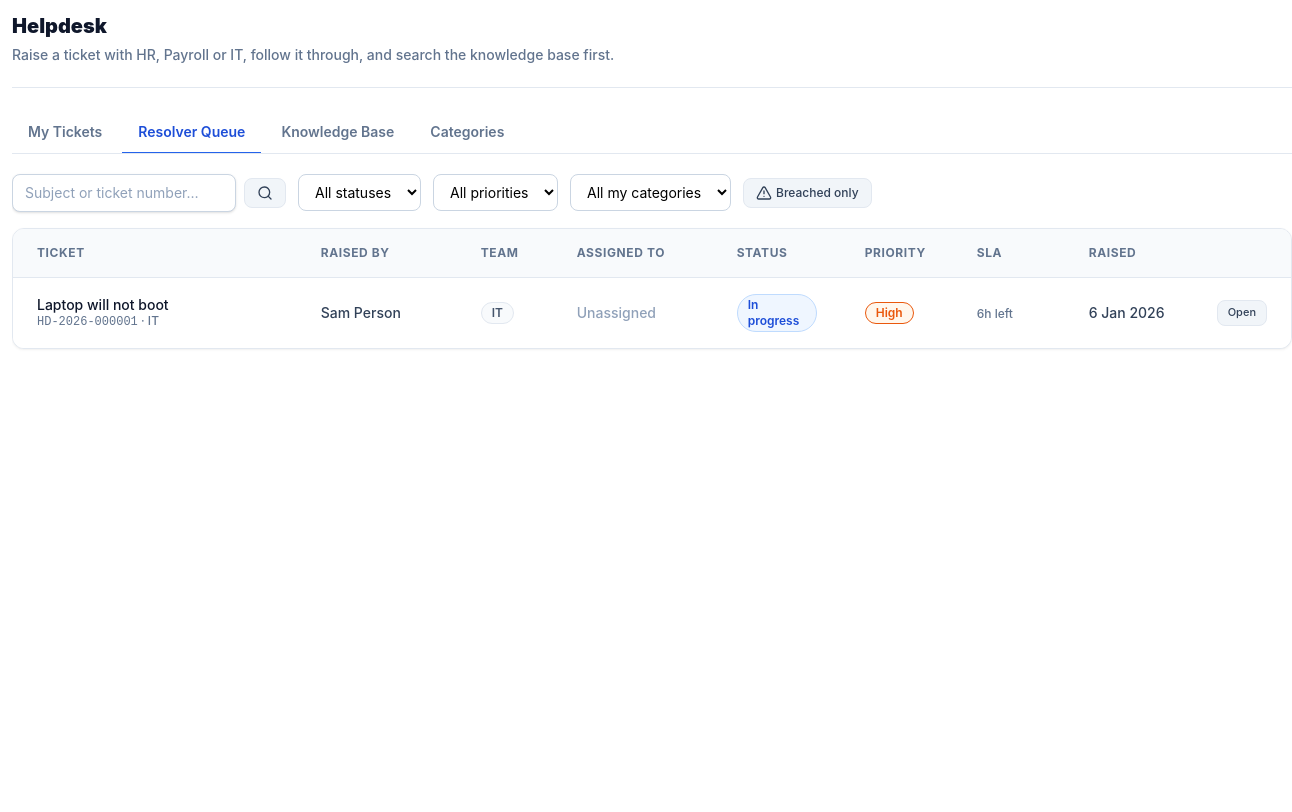
Test: the ticket detail › offers only the moves the machine allows
The width and height of the screenshot is (1292, 812).
Click the button "Open" at (1242, 313), box [1217,300,1267,326]
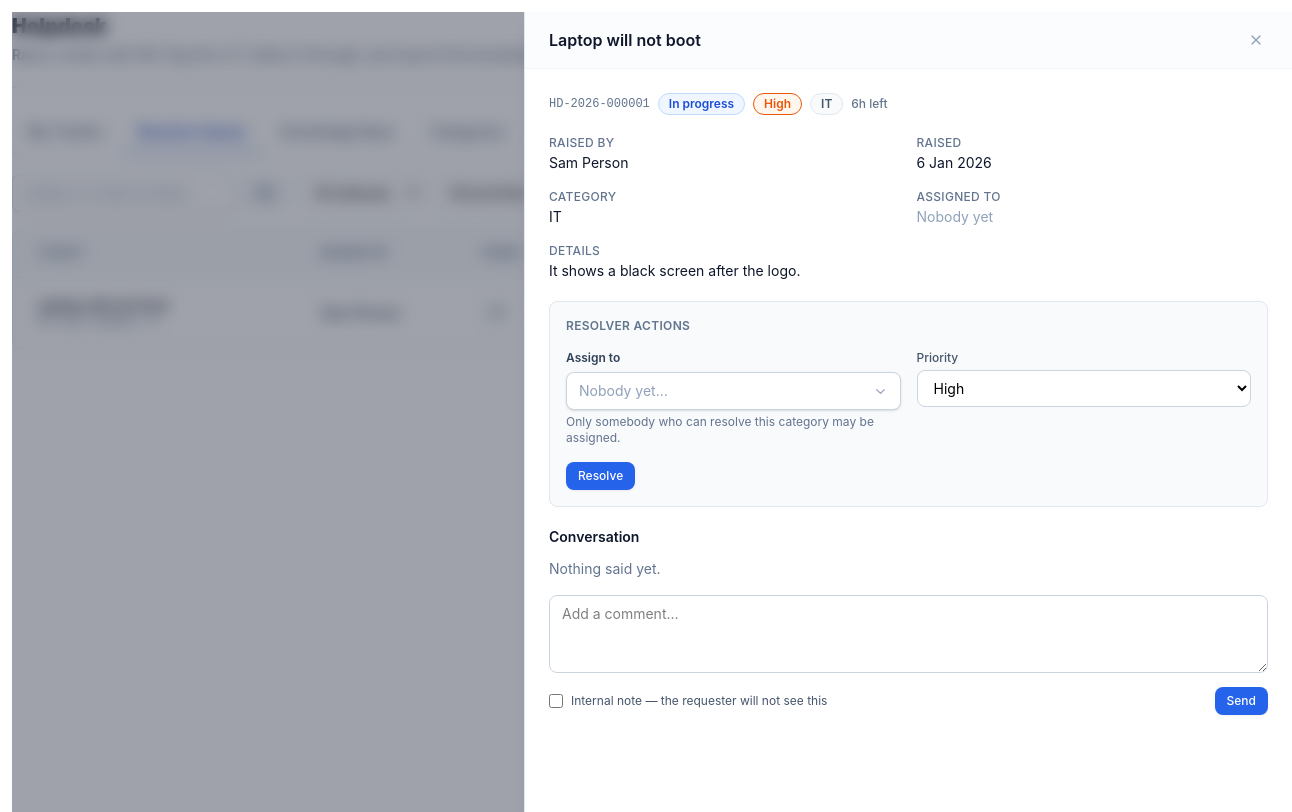
Now the button "Resolve" is shown, box [566,462,635,490]
